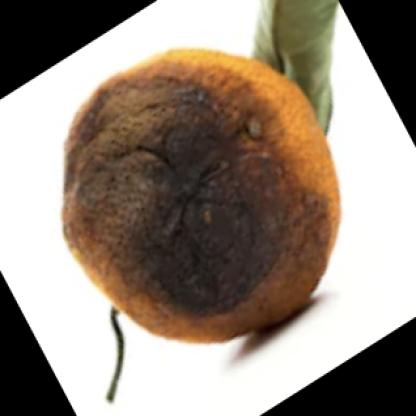rotten: (64, 48, 338, 342)
